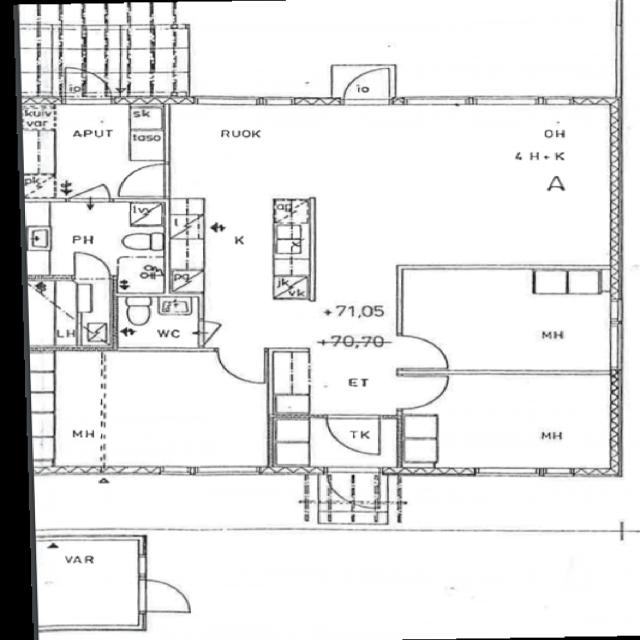door: (326, 467, 379, 514), (326, 415, 379, 456), (65, 64, 111, 106), (344, 64, 389, 106), (217, 348, 265, 384), (396, 376, 447, 408), (119, 164, 170, 196), (139, 580, 190, 611), (396, 337, 447, 368), (68, 168, 110, 202), (198, 320, 239, 346), (74, 252, 108, 280)
